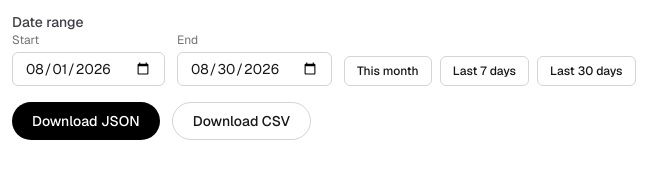
Test case: ExportActions › date range › shows an error when end date precedes start date
Type "2025-12-01" into the date field named "Start date" at (88,69), box [12,52,165,86]
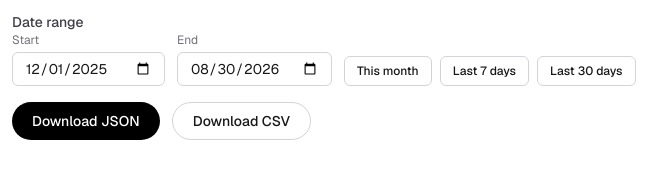
Type "2025-01-01" into the date field named "End date" at (254,69), box [177,52,332,86]
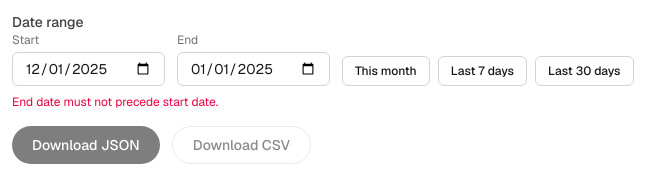
Now the text "End date must not precede start date." is shown, box [12,94,218,110]
Now the button "Download JSON" is disabled, box [12,126,160,164]
Now the button "Download CSV" is disabled, box [172,126,311,164]
